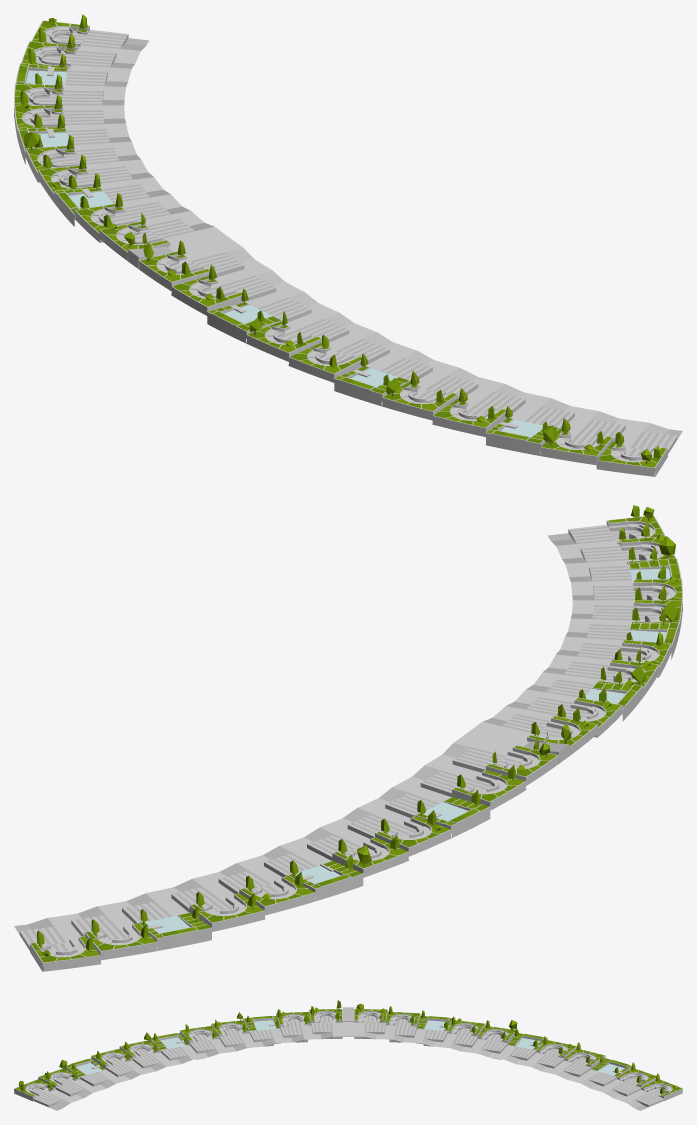
Rendered from ring6_segment_low.glb.
The picture shows the model from 3 angles, top to bottom: view 1: azimuth 30°, elevation 25°; view 2: azimuth 150°, elevation 25°; view 3: azimuth 270°, elevation 25°; orthographic projection. The views are drawn at different scales.
Parts seen in each view (by area): view 1: RING_6_MOD_LOW; view 2: RING_6_MOD_LOW; view 3: RING_6_MOD_LOW.
Boxes of the visible parts, bbox=[...] form: RING_6_MOD_LOW: bbox=[14, 14, 682, 476]; RING_6_MOD_LOW: bbox=[14, 505, 682, 971]; RING_6_MOD_LOW: bbox=[14, 1000, 682, 1110].
Bounding box in the file's own units: 6630 × 1535 × 24830.
